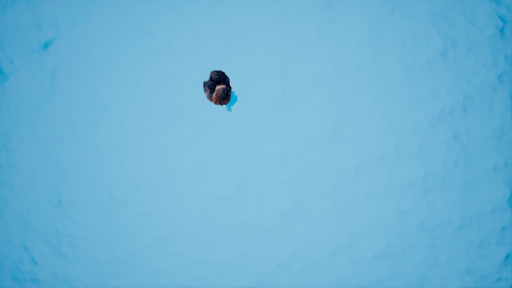person: (198, 69, 244, 115)
